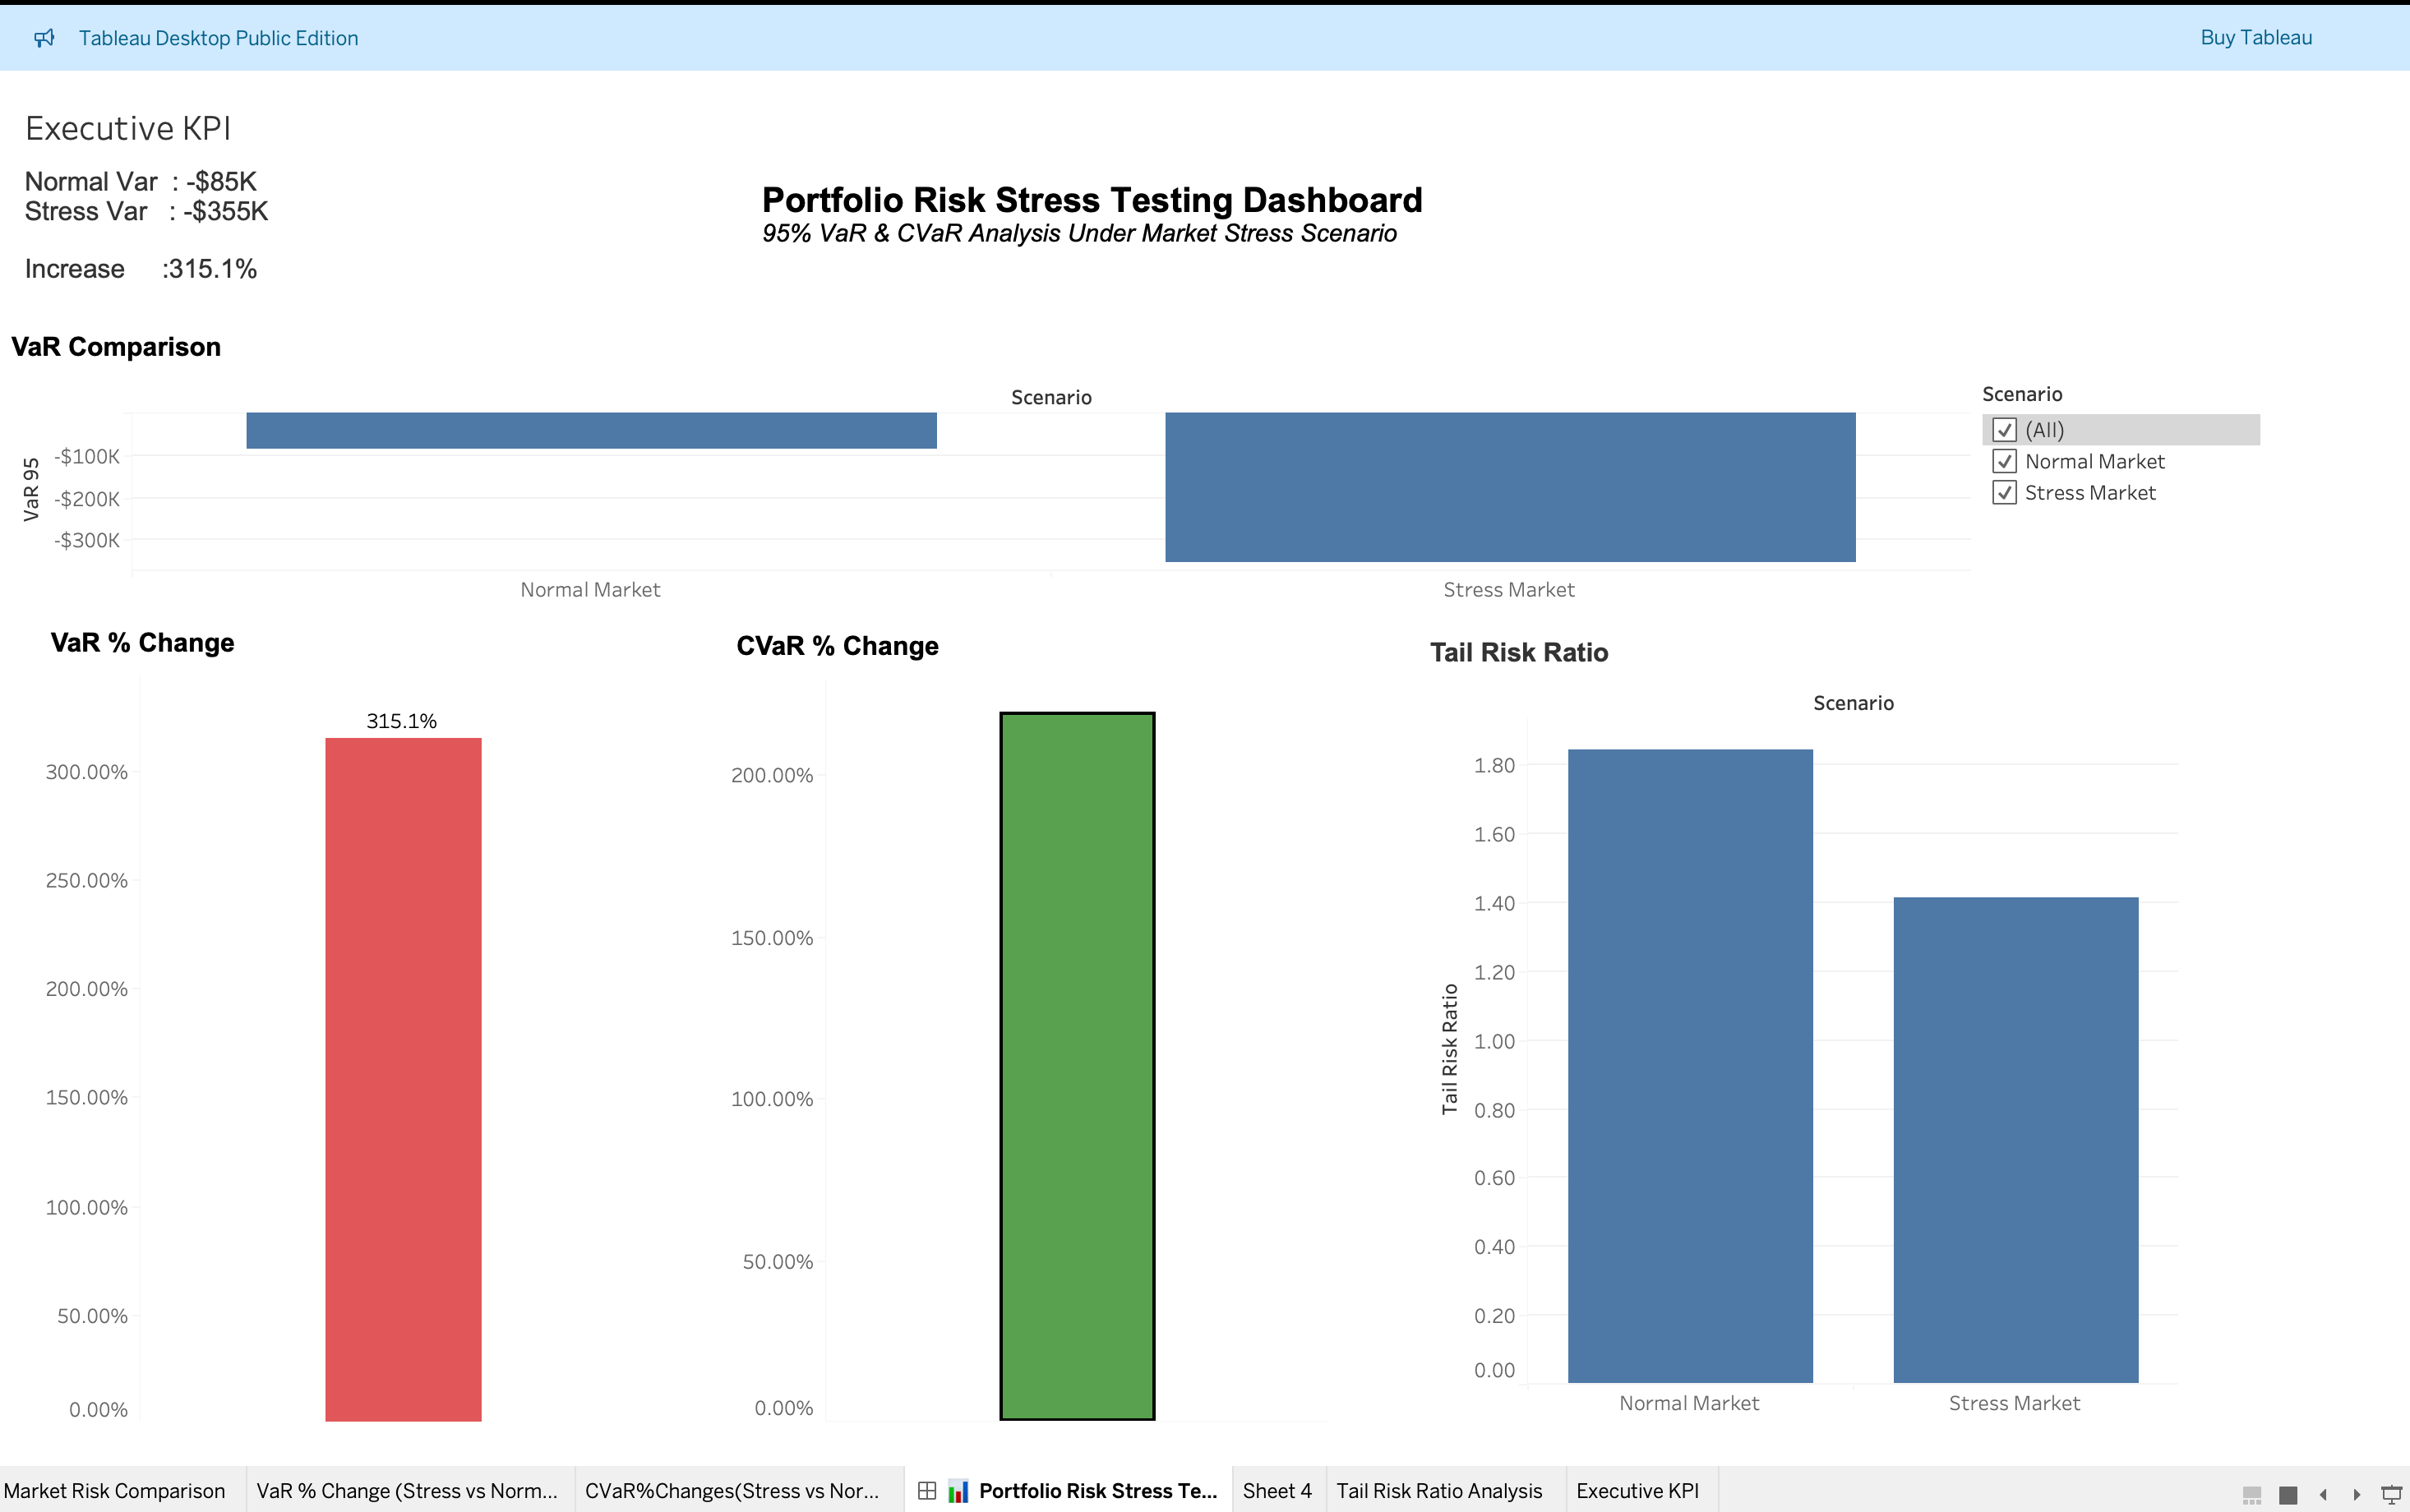

The page's visual inventory and layout, read from the dashboard file:
{"tool":"tableau","page":{"name":"📊 Portfolio Risk Stress Testing Dashboard","canvas":[1000,1000],"units":"permille","ordinal":0},"visuals":[{"type":"worksheet","title":"Executive KPI","mark":"Automatic","box":[10.3,19.1,213.7,160.1]},{"type":"text","box":[316.1,39.4,354.2,128.3]},{"type":"worksheet","title":"Market Risk Comparison","mark":"Automatic","rows":["VaR_95"],"cols":["Scenario"],"box":[4.9,182.1,813.6,200]},{"type":"filter","title":"Market Risk Comparison","param":"[federated.1wcd3h41xif5421ahgssk13uolm1].[none:Scenario:nk]","box":[823.3,220.9,115.1,128.4]},{"type":"worksheet","title":"VaR % Change (Stress vs Normal)","mark":"Automatic","rows":["Calculation_0648063505879043"],"box":[21.1,394,257.7,574.6]},{"type":"worksheet","title":"CVaR%Changes(Stress vs Normal)","mark":"Automatic","rows":["Calculation_0648063805599748"],"box":[304.7,397,248,571.6]},{"type":"worksheet","title":"Tail Risk Ratio Analysis","mark":"Automatic","rows":["Calculation_0648063814389769"],"cols":["Scenario"],"box":[591.6,401.5,312.8,586.6]}]}

Visuals, with their boxes on the dashboard's canvas, which has no fixed pixel size, in thousandths of its width and height (x1, y1, x2, y2). These are canvas units, not pixel positions in the 2410x1512 screenshot, which may show the page scaled, cropped or inside an application window:
"Executive KPI" worksheet: 10:19:224:179
text: 316:39:670:168
"Market Risk Comparison" worksheet: 5:182:818:382
"Market Risk Comparison" filter: 823:221:938:349
"VaR % Change (Stress vs Normal)" worksheet: 21:394:279:969
"CVaR%Changes(Stress vs Normal)" worksheet: 305:397:553:969
"Tail Risk Ratio Analysis" worksheet: 592:402:904:988
